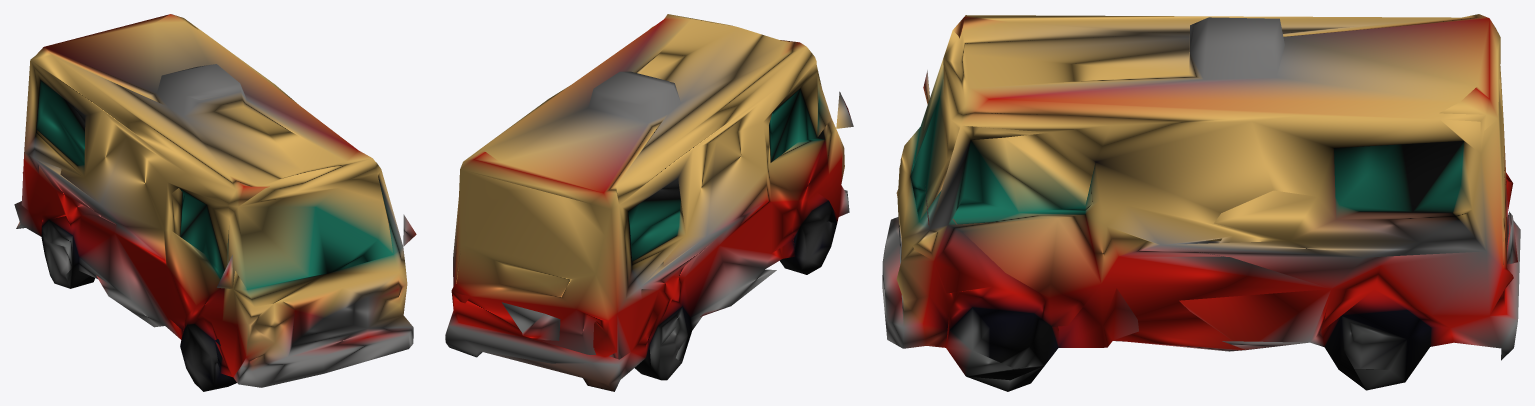
Rendered from gen3d-food-truck-lod1.glb.
The picture shows the model from 3 angles, left to right: view 1: azimuth 30°, elevation 25°; view 2: azimuth 150°, elevation 25°; view 3: azimuth 270°, elevation 25°; orthographic projection. The views are drawn at different scales.
Visible parts, largest first — view 1: part_0; view 2: part_0; view 3: part_0.
Boxes of the visible parts, x1,y1,x2,y2 form: part_0: (14, 14, 416, 391); part_0: (445, 14, 853, 391); part_0: (882, 14, 1520, 391).
Bounding box in the file's own units: 0.9207 × 0.99 × 1.91.
